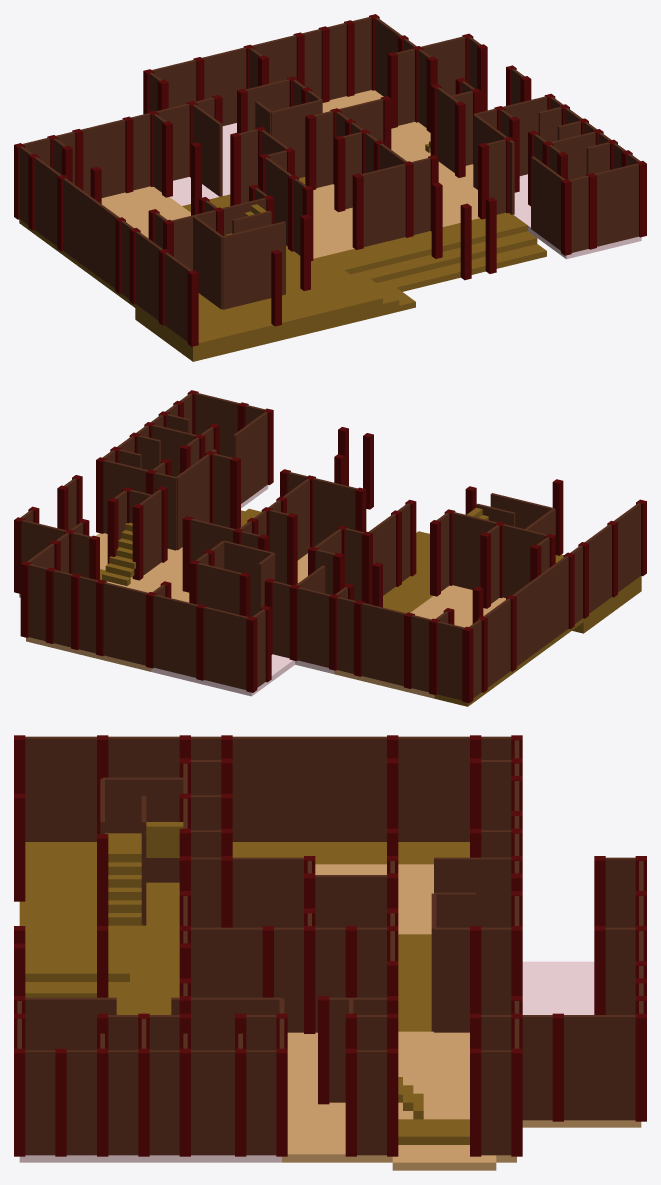
Rendered from aaa.glb.
The picture shows the model from 3 angles, top to bottom: view 1: azimuth 30°, elevation 25°; view 2: azimuth 150°, elevation 25°; view 3: azimuth 270°, elevation 25°; orthographic projection. The views are drawn at different scales.
Visible parts, largest first — view 1: Floor, Floor.001, Wall.081, Wall.003, Wall.035, Wall.010, Wall.033, Wall.064, Floor.004, Wall.080, Floor.005, Floor.006 (+84 smaller); view 2: Wall.003, Wall.032, Wall.033, Wall.010, Wall.044, Wall.017, Wall.015, Wall.064, Wall.035, Wall.060, Wall.013, Wall.006 (+88 smaller); view 3: Wall.003, Floor, Wall, Wall.004, Wall.048, Floor.001, Floor.032, Wall.037, Wall.020, Wall.072, Wall.080, Floor.007 (+80 smaller).
Boxes of the visible parts, x1,y1,x2,y2 form: Floor: [154, 270, 382, 350]; Floor.001: [135, 212, 527, 321]; Wall.081: [222, 221, 285, 309]; Wall.003: [63, 178, 119, 288]; Wall.035: [361, 164, 405, 246]; Wall.010: [81, 119, 125, 197]; Wall.033: [202, 47, 246, 125]; Wall.064: [531, 156, 564, 250]; Floor.004: [361, 231, 537, 282]; Wall.080: [193, 216, 223, 309]; Floor.005: [135, 280, 415, 361]; Floor.006: [387, 244, 546, 291]; Wall.003: [512, 556, 568, 666]; Wall.032: [204, 607, 248, 689]; Wall.033: [154, 594, 198, 677]; Wall.010: [362, 603, 405, 686]; Wall.044: [104, 582, 148, 665]; Wall.017: [297, 587, 330, 667]; Wall.015: [452, 512, 496, 589]; Wall.064: [233, 412, 267, 503]; Wall.035: [313, 478, 357, 546]; Wall.060: [175, 454, 209, 550]; Wall.013: [502, 524, 546, 597]; Wall.006: [437, 621, 464, 700]; Wall.003: [232, 736, 386, 841]; Floor: [19, 842, 129, 981]; Wall: [25, 736, 96, 841]; Wall.004: [398, 736, 469, 841]; Wall.048: [564, 1015, 635, 1120]; Floor.001: [130, 882, 179, 1014]; Floor.032: [398, 1031, 469, 1119]; Wall.037: [191, 927, 262, 997]; Wall.020: [232, 857, 303, 927]; Wall.072: [191, 1050, 234, 1155]; Wall.080: [102, 777, 183, 882]; Floor.007: [232, 842, 469, 864].
Bounding box in the file's own units: 16.53 × 3.11 × 13.9.
